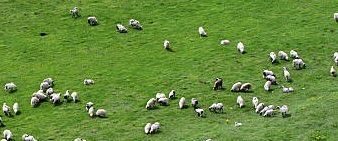sheep: (207, 102, 225, 116), (262, 78, 277, 93), (142, 97, 158, 110), (130, 19, 145, 32), (278, 83, 294, 95), (275, 105, 291, 117), (281, 65, 292, 82), (275, 49, 289, 61), (212, 77, 224, 91), (149, 120, 161, 134), (262, 107, 277, 118), (83, 77, 95, 90), (116, 22, 128, 35), (177, 95, 188, 109), (95, 105, 106, 119), (292, 58, 305, 69), (266, 51, 277, 64), (230, 80, 243, 91), (188, 96, 201, 107), (156, 96, 169, 107), (263, 72, 277, 82), (166, 88, 178, 99), (237, 41, 247, 54), (194, 107, 207, 117), (84, 99, 95, 110), (87, 16, 98, 27), (243, 83, 255, 93), (86, 103, 94, 118), (288, 48, 301, 57), (262, 67, 275, 76), (199, 26, 209, 37), (163, 40, 173, 51), (220, 37, 232, 46), (330, 64, 337, 79), (251, 95, 259, 107), (237, 94, 245, 106), (144, 121, 151, 133), (256, 102, 264, 112)
